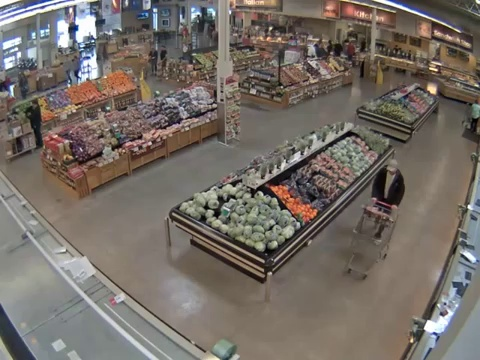face: (31, 100, 38, 108)
